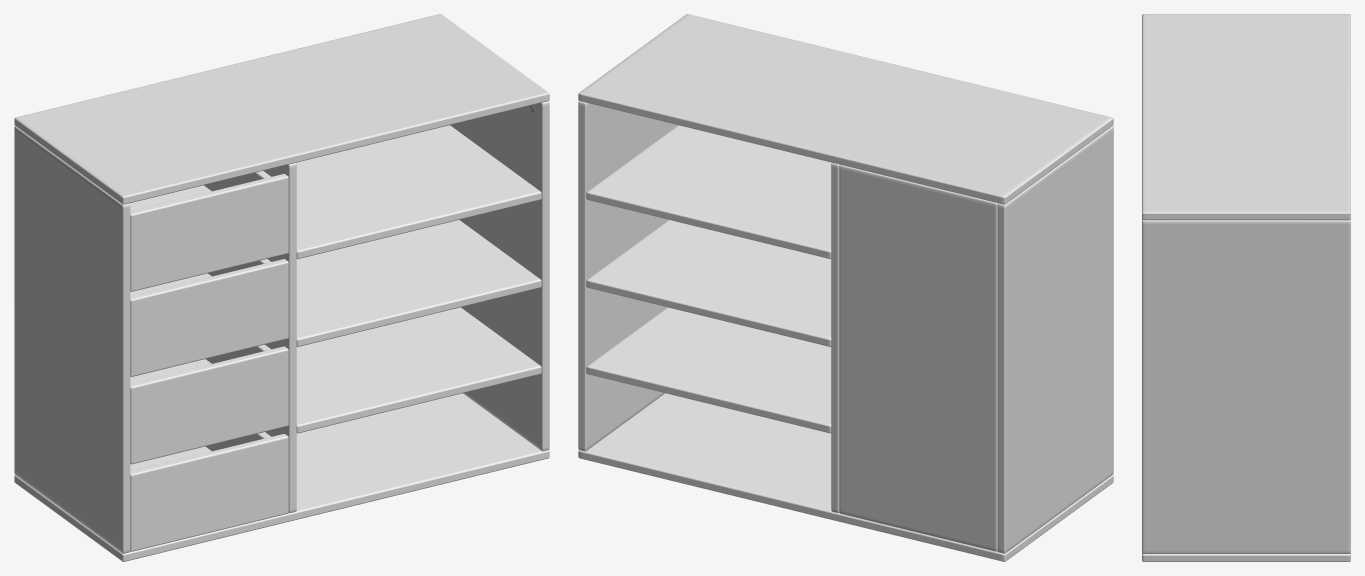
File: bookshelf_B07QY2ZN7X.glb
3 renders of one model, left to right at view 1: azimuth 30°, elevation 25°; view 2: azimuth 150°, elevation 25°; view 3: azimuth 270°, elevation 25°, orthographic. The views are drawn at different scales.
Visible parts, largest first — view 1: B07QY2ZN7X; view 2: B07QY2ZN7X; view 3: B07QY2ZN7X.
Part boxes in pixels (x1,y1,x2,y2): B07QY2ZN7X: (14,14,549,561); B07QY2ZN7X: (578,14,1113,561); B07QY2ZN7X: (1142,14,1350,561).
Bounding box in the file's own units: 0.8948 × 0.7318 × 0.396.
Materials: 1 (1 with a texture image).
